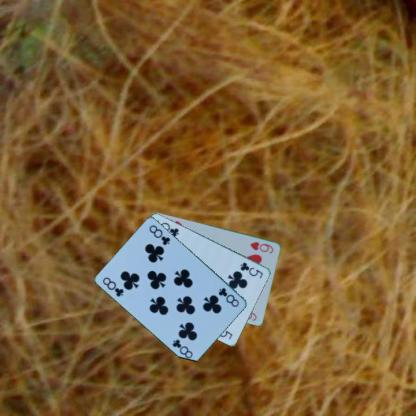5c: (238, 260, 265, 280)
6h: (247, 239, 274, 254)
8c: (100, 275, 125, 298), (216, 285, 240, 308)
